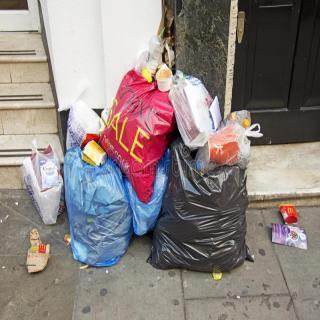Garbage: (153, 139, 254, 270), (100, 53, 175, 202), (61, 143, 134, 268), (18, 136, 65, 226), (168, 70, 218, 146)
